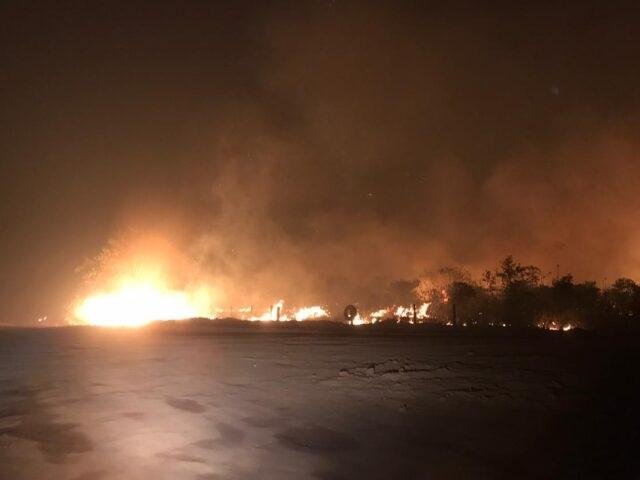fire: (83, 280, 211, 324)
smoke: (495, 159, 640, 263)
